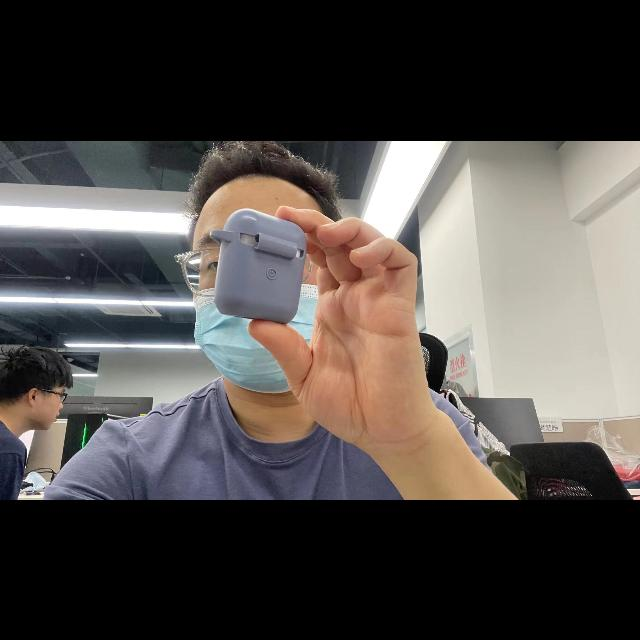airpods: (211, 208, 309, 323)
